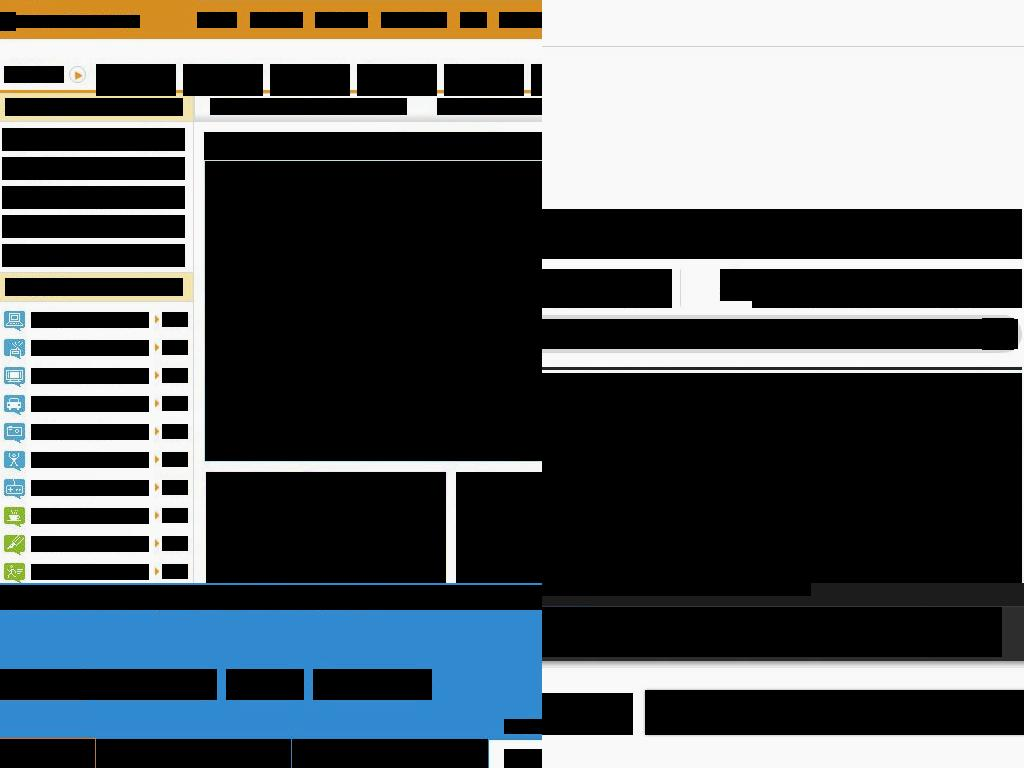button: (205, 161, 542, 461), (542, 373, 1022, 583), (752, 269, 897, 308), (816, 607, 925, 657), (896, 269, 1022, 308), (660, 607, 742, 657), (87, 669, 217, 700), (925, 607, 1002, 657), (742, 607, 816, 657), (313, 669, 432, 700), (592, 607, 660, 657), (602, 269, 672, 308), (0, 669, 87, 700), (96, 64, 176, 96), (183, 64, 263, 96), (270, 64, 350, 96), (357, 64, 437, 96), (444, 64, 524, 96), (542, 607, 592, 657), (226, 669, 304, 700), (542, 269, 603, 308), (542, 583, 708, 596), (31, 312, 149, 328), (31, 340, 149, 356), (31, 368, 149, 384), (31, 396, 149, 412), (31, 424, 149, 440), (31, 452, 149, 468), (31, 480, 149, 496), (31, 508, 149, 524), (31, 536, 149, 552), (31, 564, 149, 580), (708, 583, 811, 596)
field: (645, 690, 1024, 735), (542, 319, 1018, 349), (292, 739, 488, 768), (96, 739, 291, 768), (0, 739, 95, 768)
heading: (5, 98, 183, 116), (5, 278, 183, 296), (96, 64, 176, 92), (183, 64, 263, 92), (270, 64, 350, 92), (357, 64, 437, 92), (444, 64, 524, 92), (31, 312, 135, 327), (31, 536, 135, 551), (31, 368, 122, 383), (31, 424, 109, 439), (4, 66, 64, 83), (31, 340, 96, 355), (31, 452, 96, 467), (31, 480, 96, 495), (31, 508, 96, 523), (31, 564, 96, 579), (31, 396, 83, 411)
iframe: (542, 209, 1022, 259)
image: (205, 161, 542, 461), (542, 373, 1022, 583), (206, 472, 446, 583), (456, 472, 542, 583), (2, 128, 185, 151), (2, 157, 185, 180), (2, 186, 185, 209), (2, 215, 185, 238), (2, 244, 185, 267), (542, 693, 633, 735), (542, 583, 688, 592), (720, 269, 753, 301), (982, 318, 1014, 350), (0, 12, 16, 31)
link: (210, 98, 407, 115), (752, 269, 897, 291), (896, 269, 1022, 291), (437, 98, 542, 115), (602, 269, 672, 291), (542, 269, 603, 291), (381, 12, 447, 28), (250, 12, 303, 28), (315, 12, 368, 28), (499, 12, 542, 28), (197, 12, 237, 28), (460, 12, 487, 28), (162, 312, 188, 327), (162, 340, 188, 355), (162, 368, 188, 383), (162, 396, 188, 411), (162, 424, 188, 439), (162, 452, 188, 467), (162, 480, 188, 495), (162, 508, 188, 523), (162, 536, 188, 551), (162, 564, 188, 579)
text: (0, 585, 542, 610), (301, 132, 400, 160), (399, 132, 498, 160), (204, 132, 302, 160), (826, 626, 915, 642), (497, 132, 542, 160), (781, 294, 869, 308), (16, 15, 101, 28), (921, 294, 997, 308), (670, 626, 722, 642), (935, 626, 982, 642), (504, 749, 542, 768), (752, 626, 796, 642), (602, 626, 640, 642), (545, 626, 582, 642), (504, 719, 542, 734), (100, 15, 140, 28), (549, 294, 586, 308), (622, 294, 653, 308), (948, 328, 978, 342)
